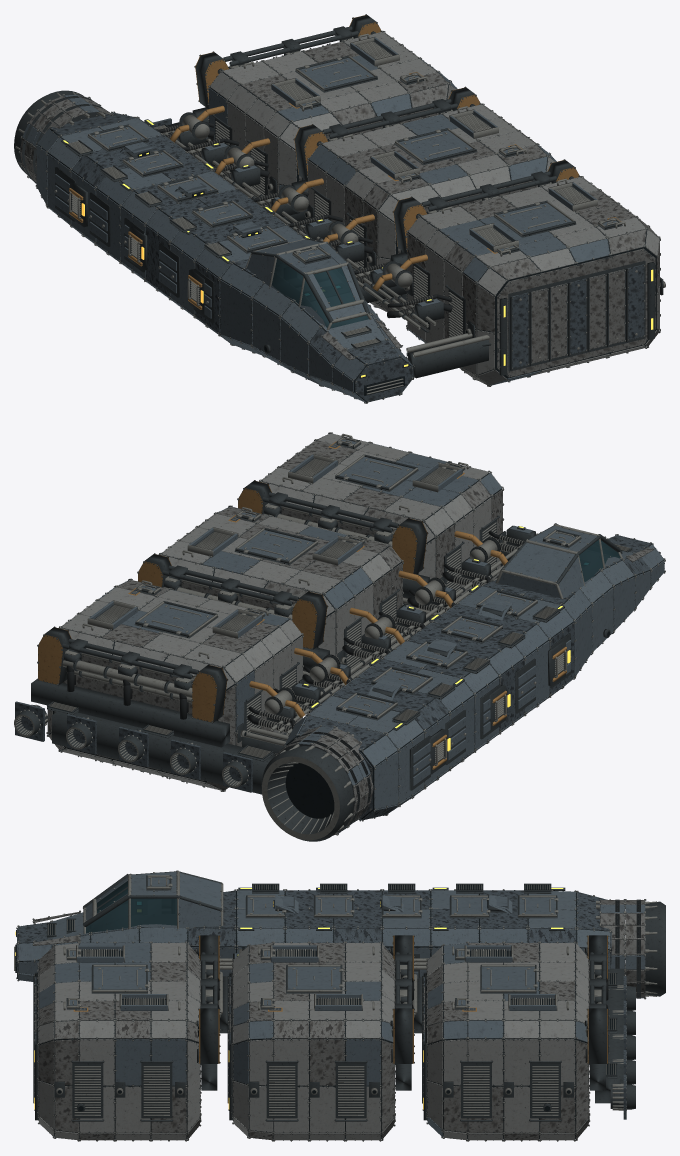
File: porter-hull.glb
3 renders of one model, top to bottom at view 1: azimuth 30°, elevation 25°; view 2: azimuth 150°, elevation 25°; view 3: azimuth 270°, elevation 25°, orthographic. The views are drawn at different scales.
Parts seen in each view (by area): view 1: dark-structure, blue-grey-1, pale-steel-0, machined-alloy, pale-steel-1, blue-grey-0, pale-steel-2, blue-grey-2, blue-grey-3, service-ochre, canopy-glass, hose-rubber (+3 smaller); view 2: dark-structure, machined-alloy, blue-grey-1, pale-steel-0, pale-steel-1, blue-grey-0, pale-steel-2, blue-grey-2, service-ochre, blue-grey-3, hose-rubber, recess-black (+3 smaller); view 3: dark-structure, blue-grey-1, pale-steel-0, pale-steel-2, machined-alloy, pale-steel-1, blue-grey-0, blue-grey-2, recess-black, canopy-glass, blue-grey-3, cargo-3 (+4 smaller).
Boxes of the visible parts, x1,y1,x2,y2 form: dark-structure: (14,14,663,403); blue-grey-1: (22,37,618,385); pale-steel-0: (20,42,659,385); machined-alloy: (15,22,665,403); pale-steel-1: (210,32,659,385); blue-grey-0: (37,72,644,402); pale-steel-2: (222,32,659,375); blue-grey-2: (36,112,411,402); blue-grey-3: (47,118,398,392); service-ochre: (69,15,621,309); canopy-glass: (271,258,368,328); hose-rubber: (156,121,452,318); dark-structure: (15,432,665,841); machined-alloy: (14,432,665,840); blue-grey-1: (89,439,663,833); pale-steel-0: (47,433,653,835); pale-steel-1: (60,441,501,790); blue-grey-0: (15,442,651,820); pale-steel-2: (62,433,500,790); blue-grey-2: (284,551,664,809); service-ochre: (38,441,566,769); blue-grey-3: (310,560,650,820); hose-rubber: (66,531,524,731); recess-black: (48,542,626,818); dark-structure: (16,871,665,1140); blue-grey-1: (18,872,645,1136); pale-steel-0: (33,900,645,1140); pale-steel-2: (39,943,588,1140); machined-alloy: (14,870,657,1141); pale-steel-1: (39,943,588,1140); blue-grey-0: (17,890,626,1119); blue-grey-2: (18,890,610,1003); recess-black: (15,885,616,1110); canopy-glass: (86,881,176,933); blue-grey-3: (52,891,575,955); cargo-3: (39,944,198,1139).
Size of the model in its own units: 42.32 by 14.67 by 67.11.
Materials: 15 (12 with a texture image).
